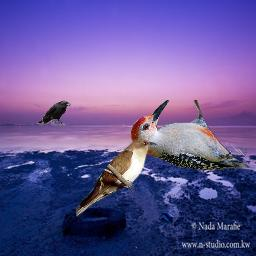Crow: (36, 100, 71, 127)
Cuckoo: (76, 138, 158, 217)
Woodpecker: (131, 100, 247, 170)
